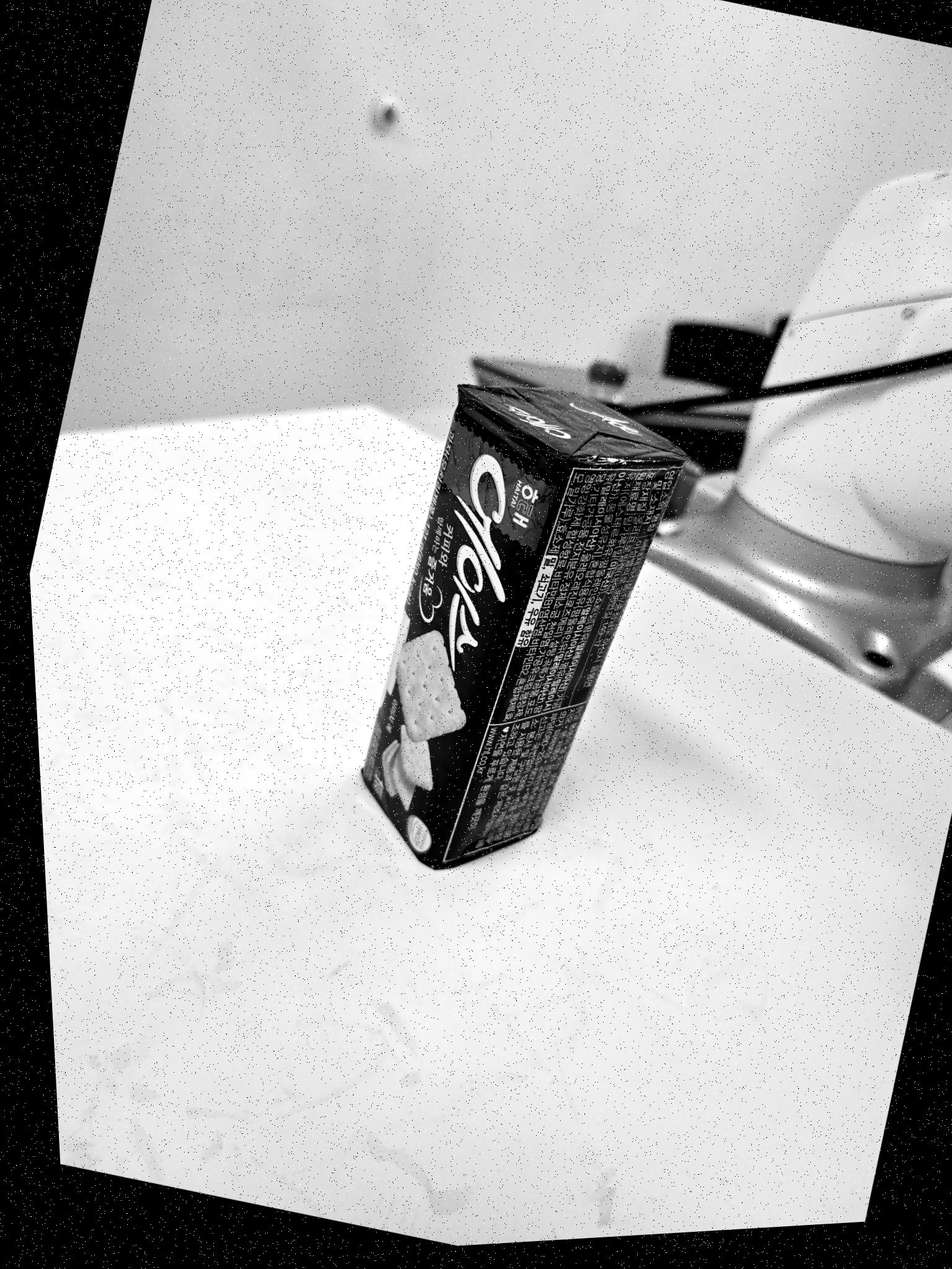cracker_ace: (361, 386, 685, 866)
